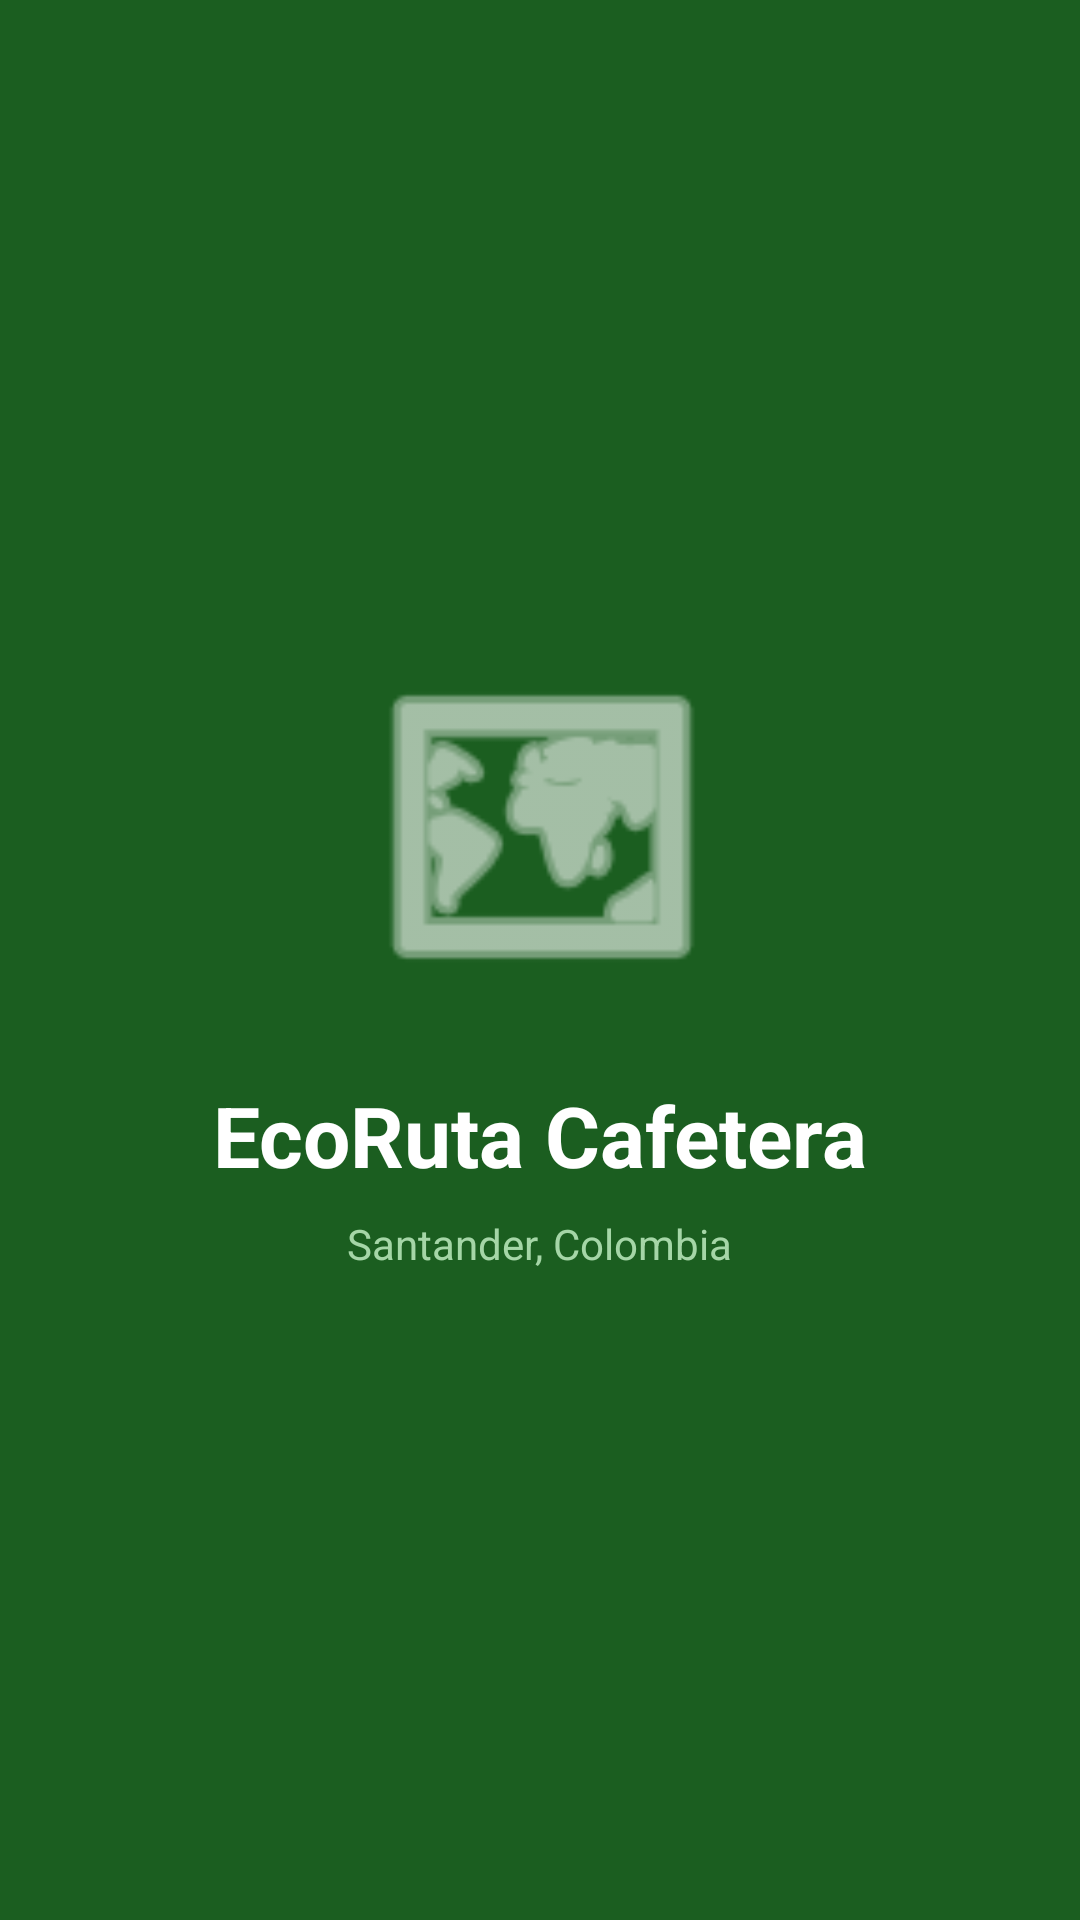

Where to tap for icons on this 1080 x 1920 app screen, as (x,y):
mapmode: (542,827)
